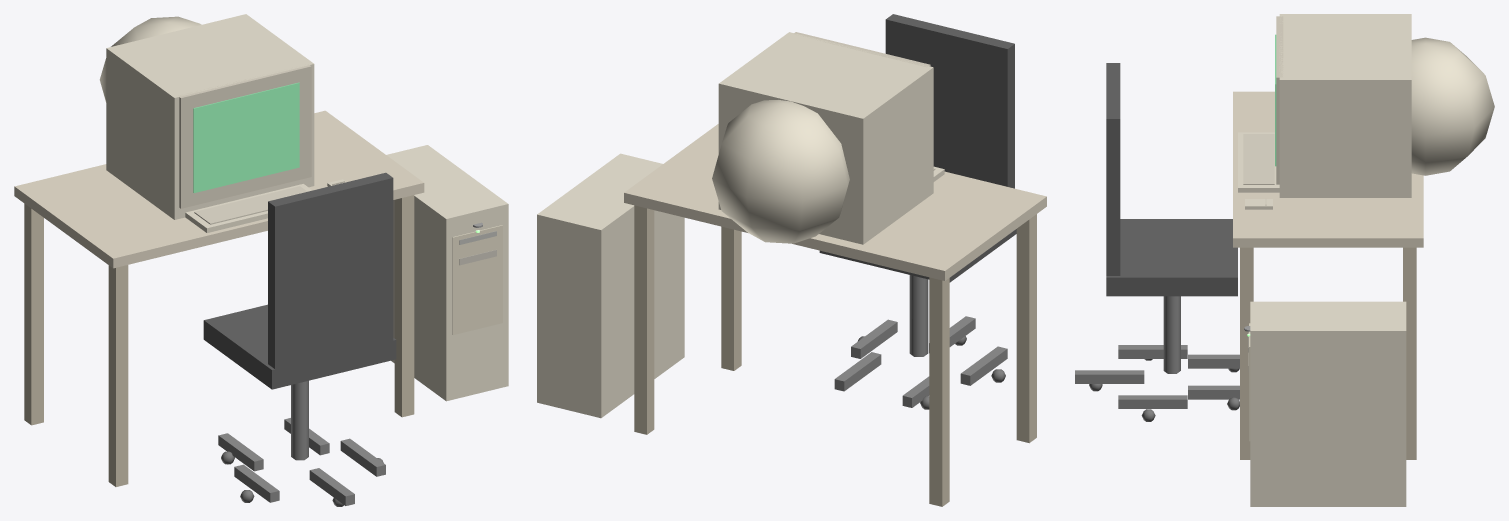
The model's file is old-computer-desk.glb.
3 views of the same model, side by side, from view 1: azimuth 30°, elevation 25°; view 2: azimuth 150°, elevation 25°; view 3: azimuth 270°, elevation 25° (orthographic). The views are drawn at different scales.
Visible parts, largest first — view 1: chair-seat, monitor, tower, desk-top, desk-leg-0, screen, bezel, chair-post, tower-panel, monitor-stand, crt-hump; view 2: tower, monitor, desk-top, desk-leg-0, crt-hump, chair-seat, chair-post; view 3: tower, monitor, chair-seat, desk-top, crt-hump, chair-post, desk-leg-0, monitor-stand, bezel.
Boxes of the visible parts, x1,y1,x2,y2 form: chair-seat: (203, 172, 396, 389); monitor: (106, 14, 314, 219); tower: (185, 145, 508, 401); desk-top: (14, 110, 424, 268); desk-leg-0: (24, 195, 414, 486); screen: (193, 82, 299, 193); bezel: (178, 64, 344, 208); chair-post: (218, 380, 385, 505); tower-panel: (452, 225, 502, 334); monitor-stand: (194, 186, 307, 224); crt-hump: (99, 16, 201, 102); tower: (537, 153, 944, 418); monitor: (718, 32, 933, 244); desk-top: (624, 124, 1046, 280); desk-leg-0: (634, 205, 1036, 506); crt-hump: (712, 100, 849, 243); chair-seat: (819, 14, 1016, 282); chair-post: (834, 275, 1007, 407); tower: (1238, 132, 1406, 506); monitor: (1279, 14, 1411, 197); chair-seat: (1106, 63, 1237, 296); desk-top: (1233, 91, 1423, 247); crt-hump: (1411, 37, 1494, 175); chair-post: (1075, 296, 1239, 408); desk-leg-0: (1240, 247, 1416, 459); monitor-stand: (1243, 134, 1274, 184); bezel: (1265, 16, 1283, 205).
Size of the model in its own units: 1.3 by 1.11 by 1.21.
